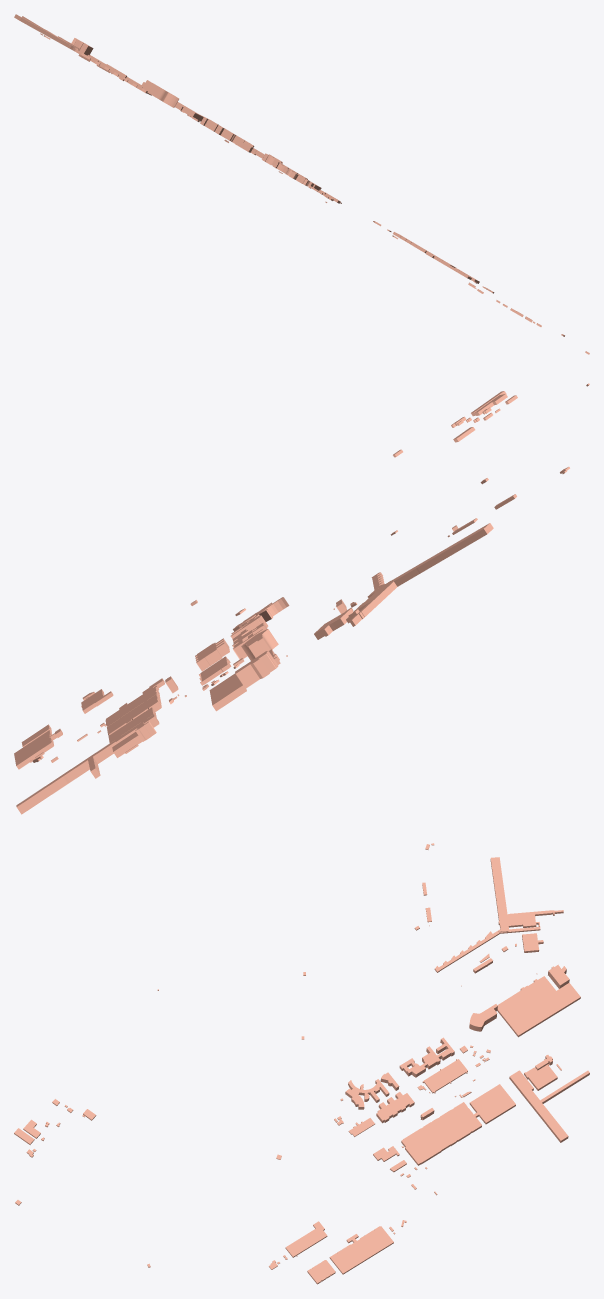
3 views of the same model, one above another, from view 1: azimuth 30°, elevation 25°; view 2: azimuth 150°, elevation 25°; view 3: azimuth 270°, elevation 25° (orthographic). The views are drawn at different scales.
Size of the model in its own units: 1683 by 1264 by 2419.
